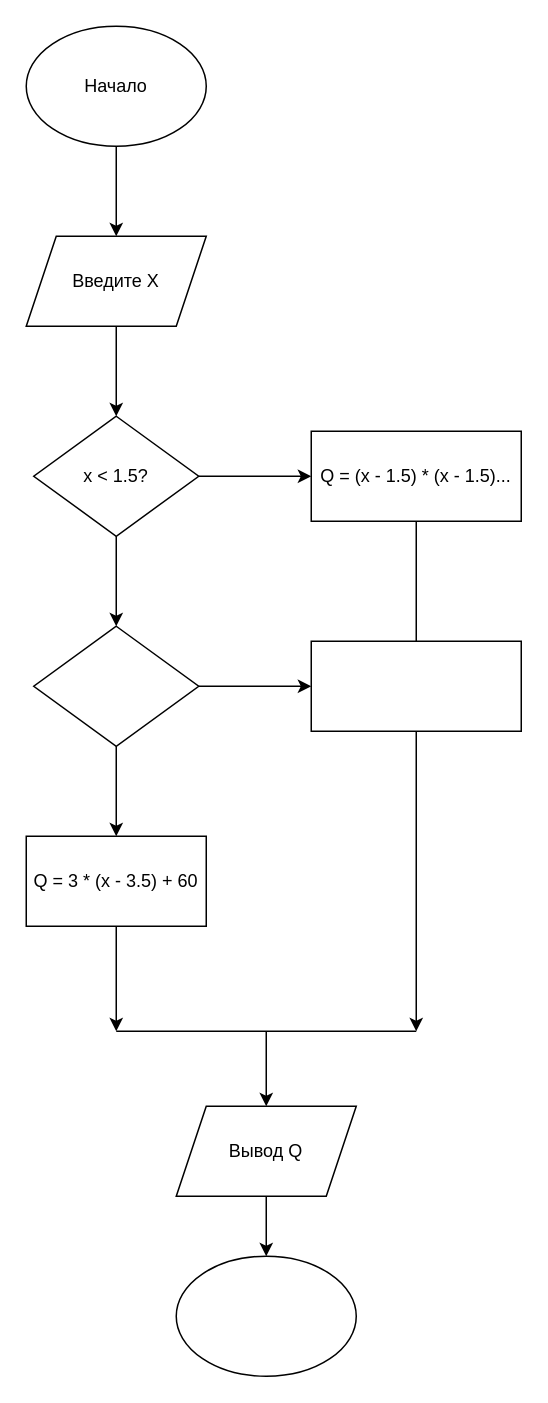
Some shapes in this 548 by 1403 pixel diagram are drawn without their labels. Here are the shapes that lost their labels. From the top down, the centre of each, then its label:
At (115,685): "x <= 3.5?".
At (415,685): "Q = 2 * √(x - 2.5 +2) + 42".
At (265,1315): "Конец".
